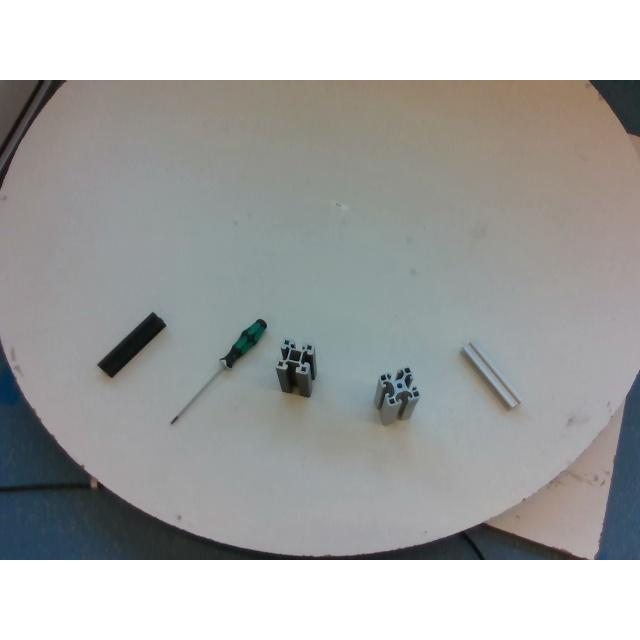F20_20_B: (98, 312, 166, 376)
F20_20_G: (462, 340, 522, 408)
S40_40_B: (276, 338, 312, 394)
S40_40_G: (375, 368, 419, 424)
Screwdriver: (170, 320, 266, 424)
